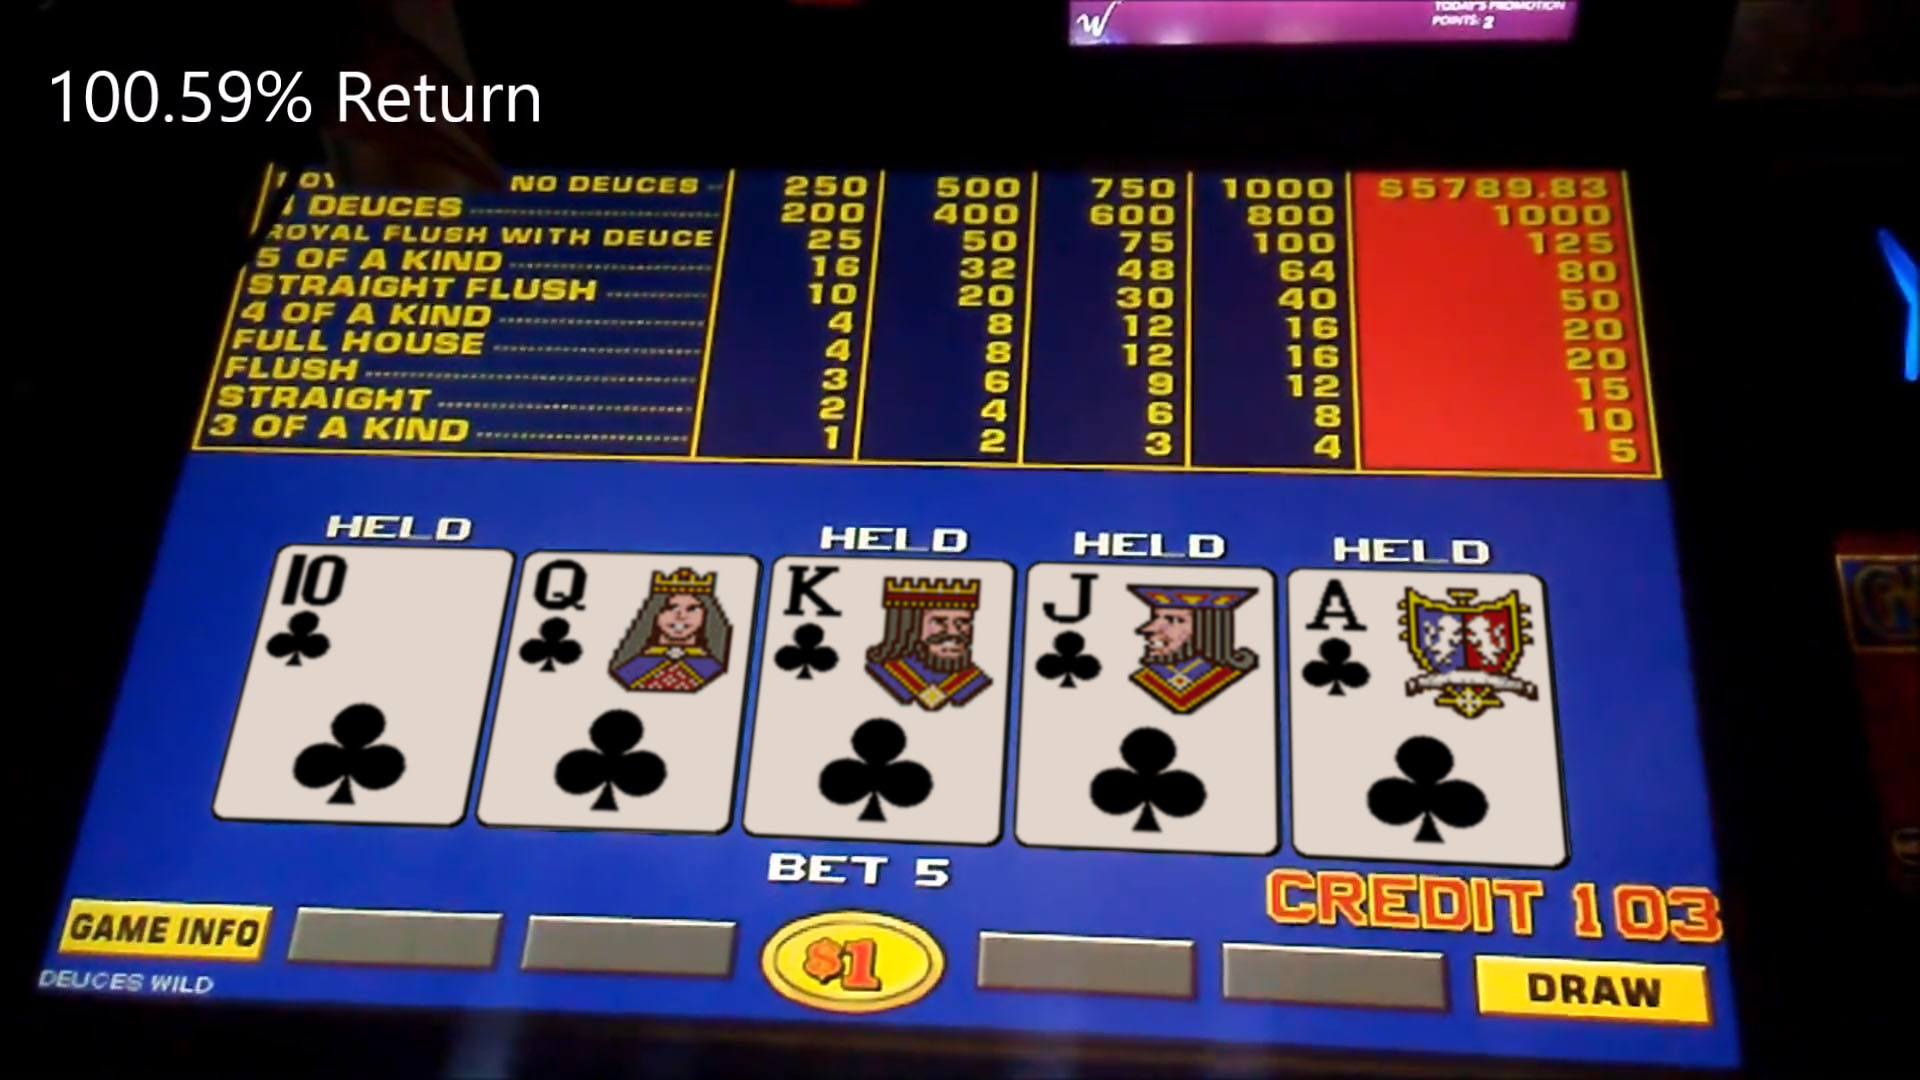CA: (1294, 575, 1553, 855)
CJ: (1029, 564, 1270, 853)
CK: (771, 558, 997, 843)
CQ: (522, 553, 735, 828)
CT: (265, 549, 472, 819)
